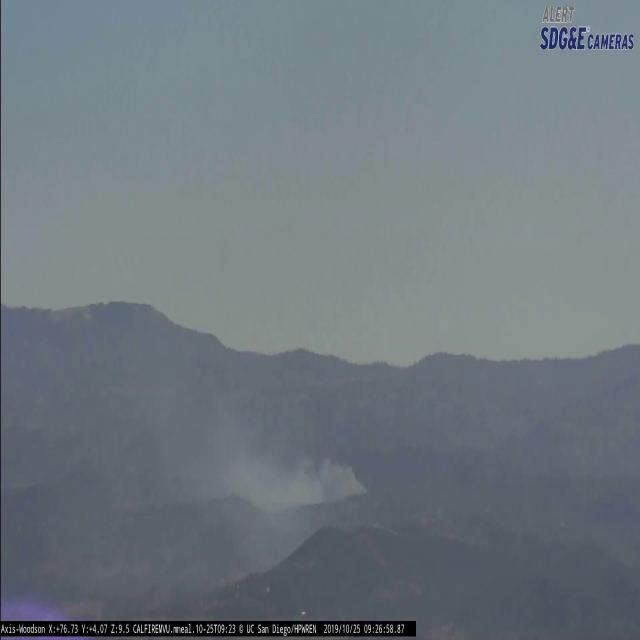smoke: (143, 410, 369, 584)
